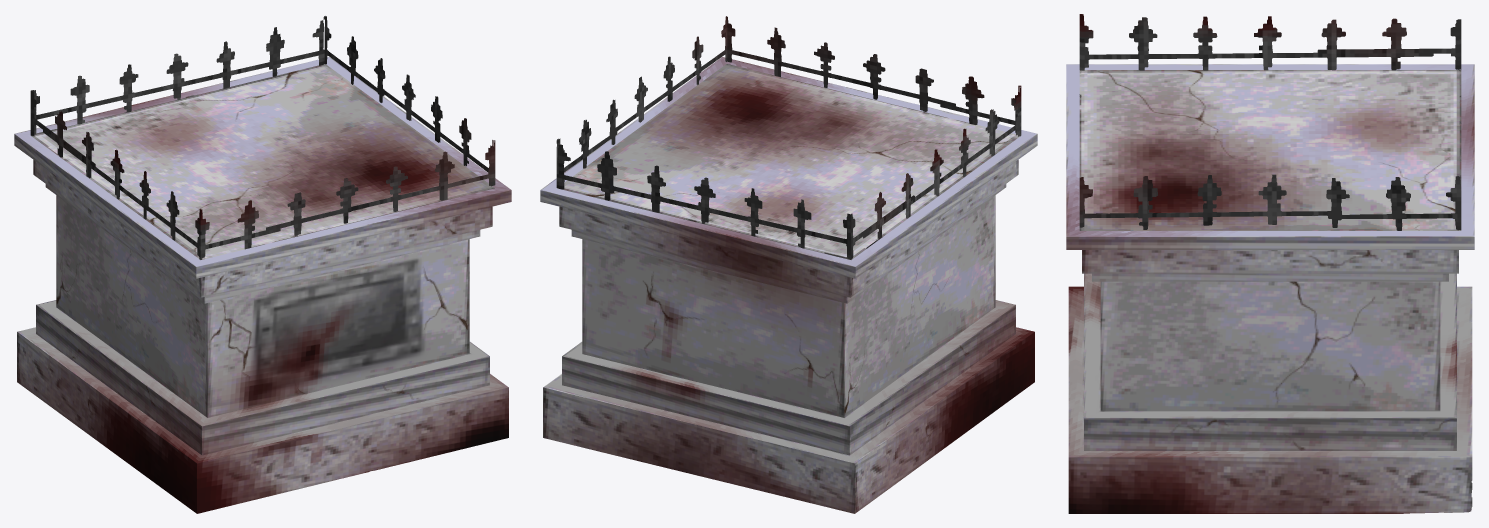
Rendered from podest.fbx.
The picture shows the model from 3 angles, left to right: view 1: azimuth 30°, elevation 25°; view 2: azimuth 150°, elevation 25°; view 3: azimuth 270°, elevation 25°; orthographic projection. The views are drawn at different scales.
Visible parts, largest first — view 1: podest.002; view 2: podest.002; view 3: podest.002.
Boxes of the visible parts, x1,y1,x2,y2 form: podest.002: [14, 16, 511, 513]; podest.002: [540, 16, 1037, 513]; podest.002: [1066, 14, 1474, 513].
Size of the model in its own units: 108 by 97.16 by 108.
1 material, 1 textured.
